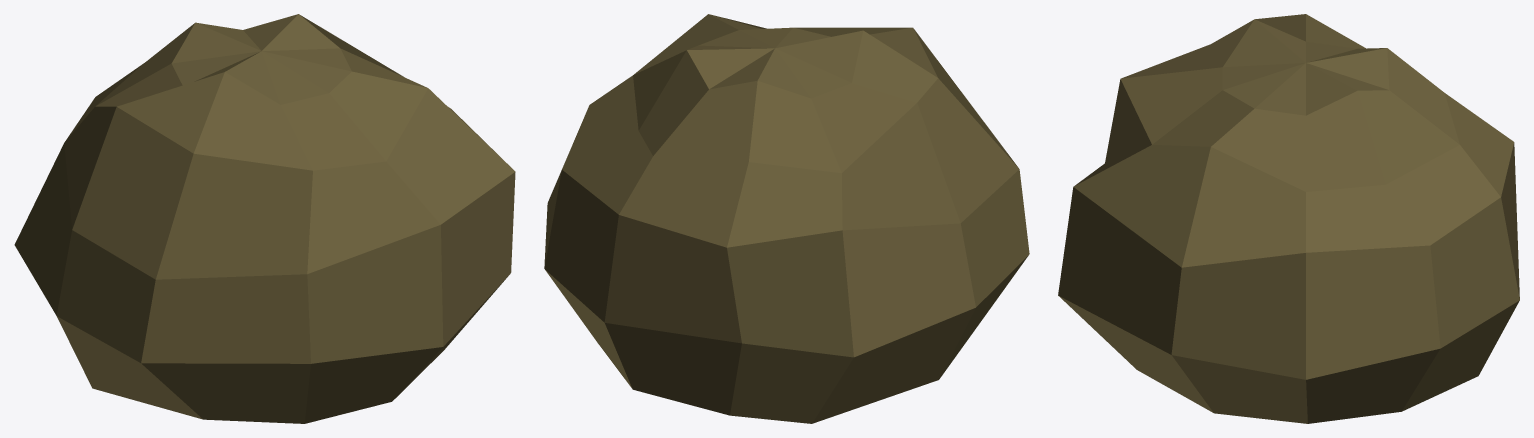
The model's file is bush001.fbx.
The picture shows the model from 3 angles, left to right: view 1: azimuth 30°, elevation 25°; view 2: azimuth 150°, elevation 25°; view 3: azimuth 270°, elevation 25°; orthographic projection. The views are drawn at different scales.
Visible parts, largest first — view 1: bush001; view 2: bush001; view 3: bush001.
Part boxes in pixels (bbox=[...]): bush001: bbox=[14, 14, 515, 423]; bush001: bbox=[544, 14, 1029, 423]; bush001: bbox=[1058, 14, 1519, 423].
Bounding box in the file's own units: 4.14 × 3.91 × 2.81.
